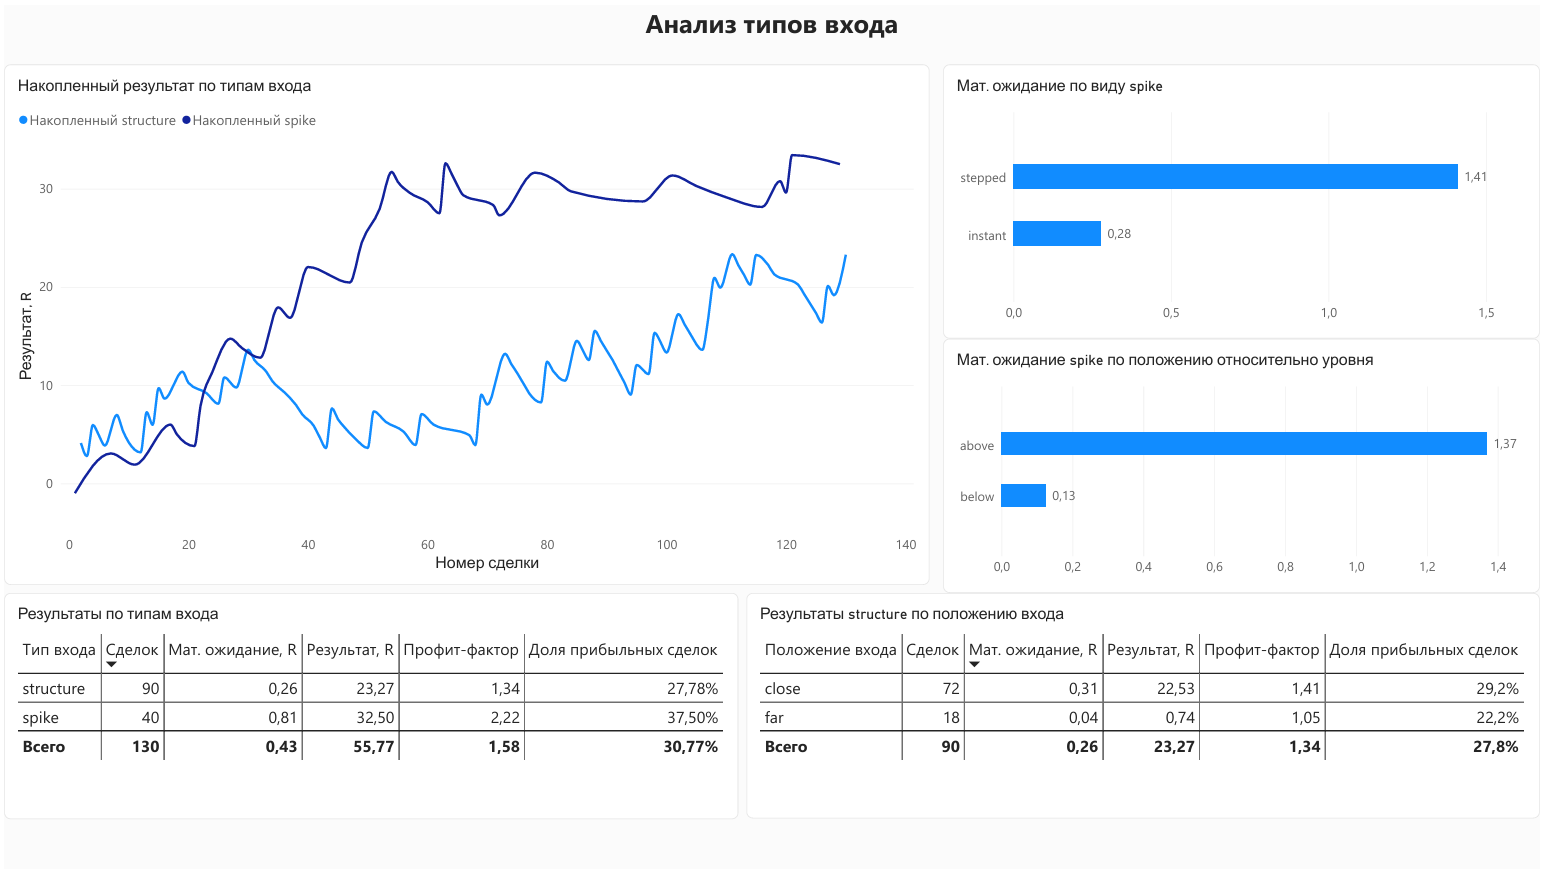

The page's visual inventory and layout, read from the dashboard file:
{"tool":"powerbi","page":{"name":"Анализ типов входа","canvas":[1920,1080],"ordinal":2},"visuals":[{"type":"lineChart","title":"Накопленный результат по типам входа","fields":{"Category":["fact_trades_eda.trade number"],"Y":["Таблица.Накопленный structure","Таблица.Накопленный spike"]},"box":[0,74.2,1156.8,650.6],"z":0},{"type":"textbox","box":[0,0,1920.3,62.2],"z":1000},{"type":"tableEx","title":"Результаты по типам входа","fields":{"Values":["fact_trades_eda.entry_type","Таблица.Сделок","Таблица.Мат. ожидание","Таблица.Результат","Таблица.Профит-фактор","Таблица.Доля прибыльных сделок"]},"box":[0,735.4,918.3,282.2],"z":2000},{"type":"tableEx","title":"Результаты structure по положению входа","fields":{"Values":["fact_trades_eda.Положение structure","Таблица.Сделок","Таблица.Мат. ожидание","Таблица.Результат","Таблица.Профит-фактор","Таблица.Доля прибыльных сделок"]},"box":[927.5,735.4,992.2,281.8],"z":3000},{"type":"clusteredBarChart","title":"Мат. ожидание по виду spike","fields":{"Category":["fact_trades_eda.spike_type"],"Y":["Меры.Мат. ожидание"]},"box":[1174,74.2,746,343.2],"z":4000},{"type":"clusteredBarChart","title":"Мат. ожидание spike по положению относительно уровня","fields":{"Category":["fact_trades_eda.entry_vs_level"],"Y":["Меры.Мат. ожидание"]},"box":[1174,417.4,746,318],"z":5000}]}

Visuals, with their boxes in screenshot pixels (x1, y1, x2, y2), scaled from the page's 1920x1080 canvas onto the 1544x875 screenshot:
"Накопленный результат по типам входа" lineChart: select_region(0, 60, 930, 587)
textbox: select_region(0, 0, 1543, 50)
"Результаты по типам входа" tableEx: select_region(0, 596, 738, 824)
"Результаты structure по положению входа" tableEx: select_region(746, 596, 1543, 824)
"Мат. ожидание по виду spike" clusteredBarChart: select_region(944, 60, 1543, 338)
"Мат. ожидание spike по положению относительно уровня" clusteredBarChart: select_region(944, 338, 1543, 596)
